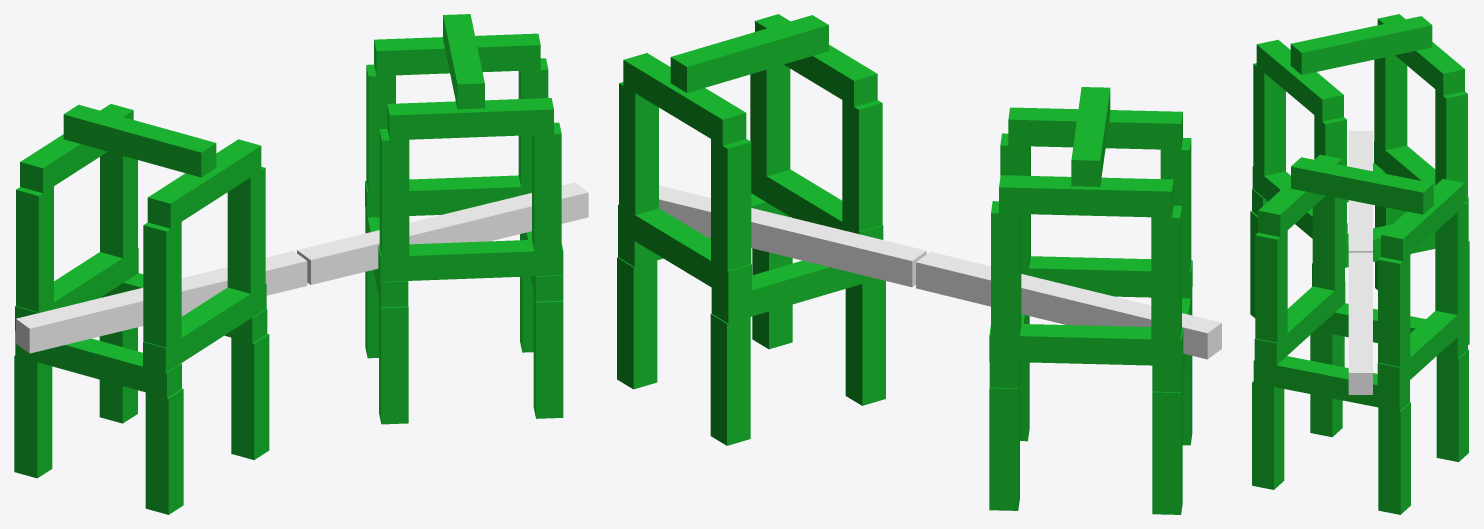
Rendered from Dynamic_1kg_0_5friction.fbx.
The picture shows the model from 3 angles, left to right: view 1: azimuth 30°, elevation 25°; view 2: azimuth 150°, elevation 25°; view 3: azimuth 270°, elevation 25°; orthographic projection. The views are drawn at different scales.
Visible parts, largest first — view 1: D1DynamicBox32, D1DynamicBox31, D1DynamicBox23, D1DynamicBox29, D1DynamicBox1, D1DynamicBox28, D1DynamicBox4, D1DynamicBox10, D1DynamicBox12, D1DynamicBox15, D1DynamicBox5, D1DynamicBox2 (+20 smaller); view 2: D1DynamicBox31, D1DynamicBox32, D1DynamicBox9, D1DynamicBox3, D1DynamicBox30, D1DynamicBox2, D1DynamicBox26, D1DynamicBox27, D1DynamicBox18, D1DynamicBox17, D1DynamicBox28, D1DynamicBox22 (+20 smaller); view 3: D1DynamicBox30, D1DynamicBox1, D1DynamicBox20, D1DynamicBox32, D1DynamicBox24, D1DynamicBox25, D1DynamicBox18, D1DynamicBox17, D1DynamicBox19, D1DynamicBox2, D1DynamicBox4, D1DynamicBox26 (+19 smaller).
Boxes of the visible parts, <box> form: D1DynamicBox32: <box>297,182,588,284</box>; D1DynamicBox31: <box>16,251,307,353</box>; D1DynamicBox23: <box>378,240,563,281</box>; D1DynamicBox29: <box>387,98,553,140</box>; D1DynamicBox1: <box>63,104,216,177</box>; D1DynamicBox28: <box>374,33,540,75</box>; D1DynamicBox4: <box>143,222,181,347</box>; D1DynamicBox10: <box>15,331,181,398</box>; D1DynamicBox12: <box>231,334,269,459</box>; D1DynamicBox15: <box>145,388,183,514</box>; D1DynamicBox5: <box>16,186,53,312</box>; D1DynamicBox2: <box>147,139,261,228</box>; D1DynamicBox31: <box>916,251,1221,359</box>; D1DynamicBox32: <box>659,185,926,287</box>; D1DynamicBox9: <box>989,324,1183,366</box>; D1DynamicBox3: <box>999,175,1173,217</box>; D1DynamicBox30: <box>670,15,828,92</box>; D1DynamicBox2: <box>1008,107,1182,149</box>; D1DynamicBox26: <box>711,139,751,270</box>; D1DynamicBox27: <box>842,100,882,231</box>; D1DynamicBox18: <box>617,257,657,389</box>; D1DynamicBox17: <box>710,313,750,445</box>; D1DynamicBox28: <box>623,53,746,145</box>; D1DynamicBox22: <box>618,204,751,297</box>; D1DynamicBox30: <box>1291,157,1433,214</box>; D1DynamicBox1: <box>1290,16,1432,74</box>; D1DynamicBox20: <box>1253,356,1409,411</box>; D1DynamicBox32: <box>1348,252,1372,394</box>; D1DynamicBox24: <box>1255,231,1287,342</box>; D1DynamicBox25: <box>1378,255,1410,366</box>; D1DynamicBox18: <box>1378,402,1410,514</box>; D1DynamicBox17: <box>1436,349,1468,462</box>; D1DynamicBox19: <box>1252,381,1284,489</box>; D1DynamicBox2: <box>1256,39,1343,121</box>; D1DynamicBox4: <box>1253,63,1285,175</box>; D1DynamicBox26: <box>1435,202,1467,314</box>.
Size of what is drawn, in the model's own units: 70.43 by 40 by 26.96.
